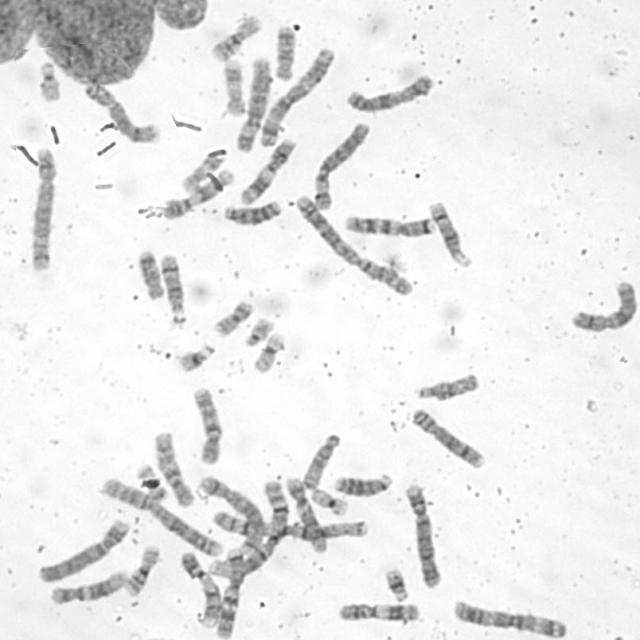A1: (211, 479, 290, 578), (206, 504, 374, 545)
A2: (292, 191, 414, 298), (98, 475, 224, 558)
A3: (255, 44, 338, 148), (449, 596, 569, 639)
B4: (36, 515, 132, 584), (402, 480, 442, 590)
B5: (192, 472, 270, 557), (26, 143, 59, 273)
C10: (151, 427, 196, 508), (190, 384, 226, 466)
C11: (235, 134, 298, 207), (334, 599, 422, 624)
C12: (282, 473, 328, 555), (45, 567, 129, 606)
C6: (309, 119, 372, 211), (232, 54, 273, 154)
C7: (210, 547, 248, 639), (341, 211, 436, 239)
C8: (408, 404, 486, 470), (81, 80, 160, 145)
C9: (159, 165, 236, 221), (177, 549, 221, 629)
D13: (331, 468, 394, 498), (220, 196, 282, 226)
D14: (425, 197, 472, 270), (158, 252, 186, 316)
D15: (299, 430, 342, 491), (411, 370, 481, 402)
E16: (208, 12, 263, 63), (122, 542, 161, 597)
E17: (180, 152, 226, 195), (220, 55, 248, 118)
E18: (136, 246, 166, 301), (272, 22, 296, 81)
F19: (250, 330, 287, 374), (309, 485, 351, 517)
F20: (210, 297, 255, 337), (135, 464, 169, 501)
G21: (174, 341, 217, 374), (380, 565, 410, 602)
G22: (35, 58, 64, 104), (242, 314, 276, 347)
X: (341, 70, 436, 116), (568, 278, 639, 335)
